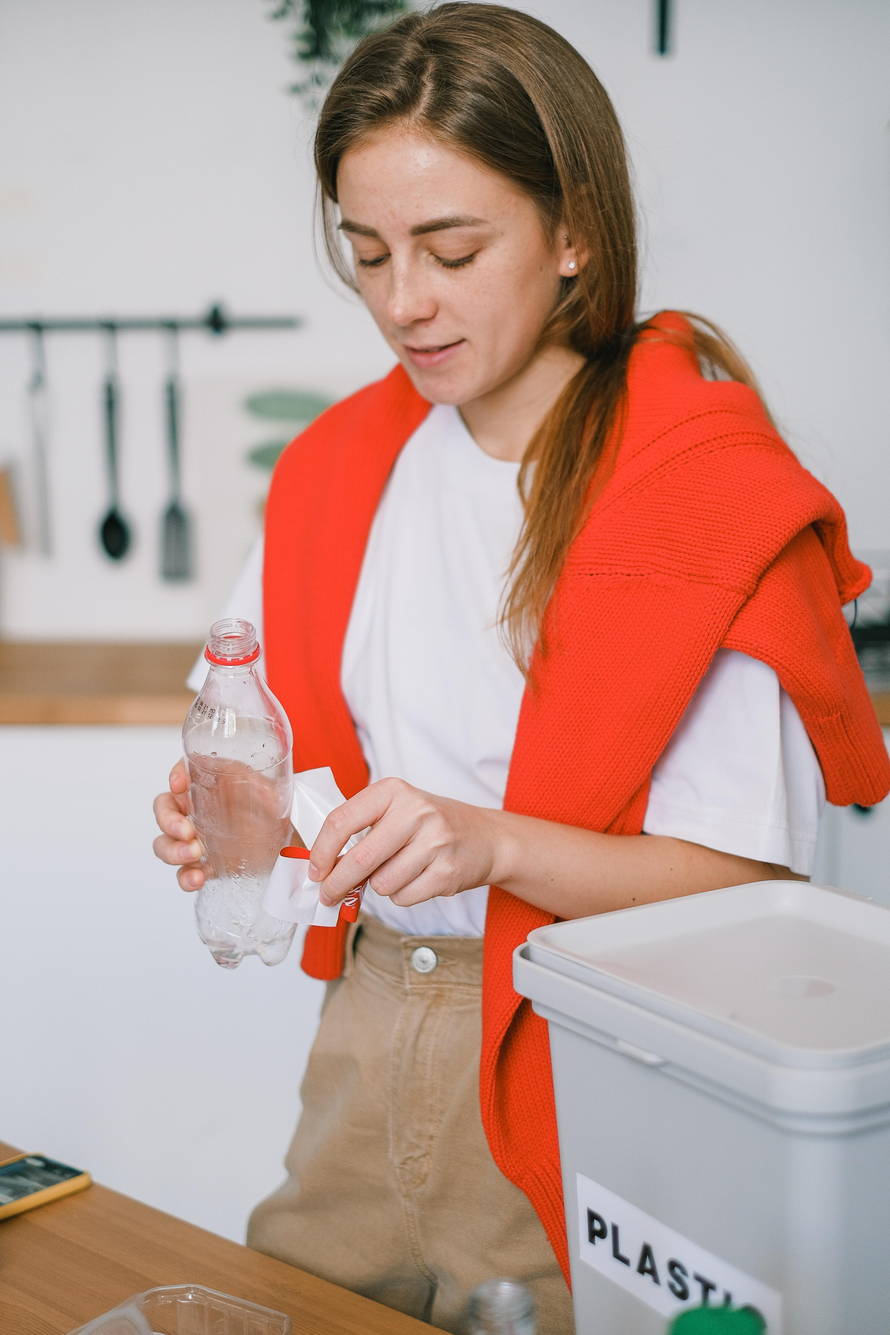bottle-plastic: (179, 615, 315, 979)
